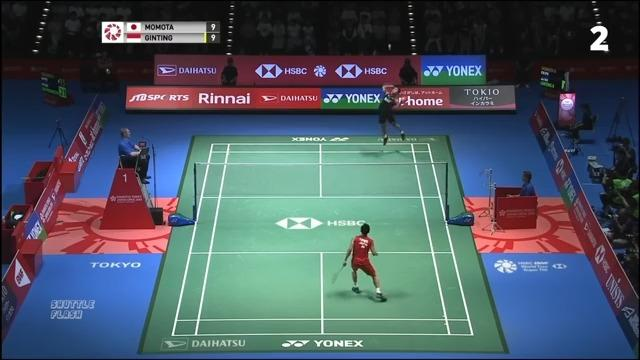Shuttlecock: (387, 40, 397, 52)
